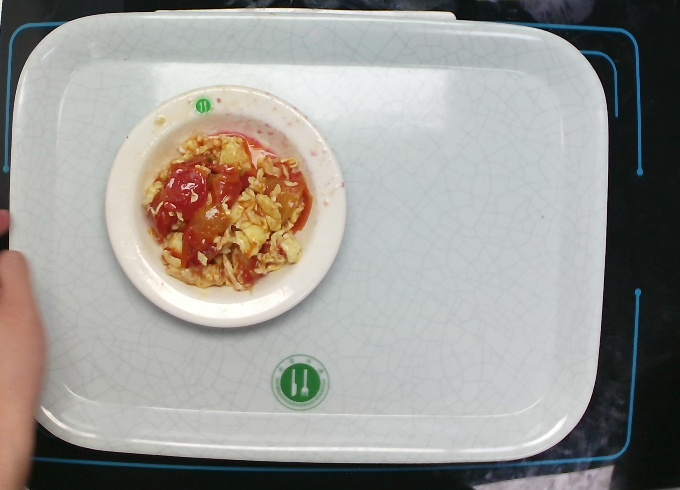WCQzf-Kuan_Bian_Yuan_Die: (103, 85, 348, 327)
